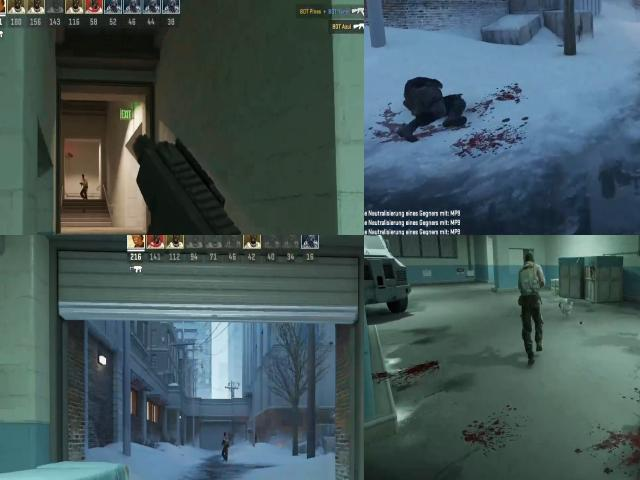Dead: (381, 61, 476, 152)
T: (507, 254, 552, 316), (221, 428, 232, 455), (79, 170, 88, 193)
T-Head: (80, 172, 86, 182), (223, 432, 229, 440)
